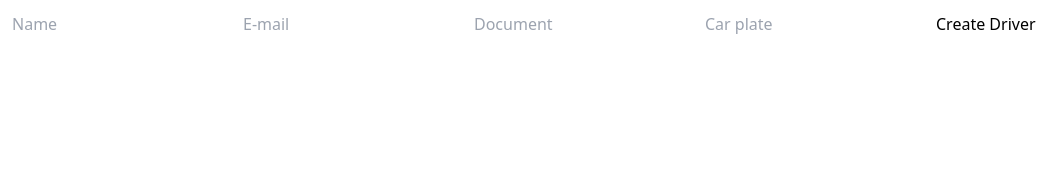
it: Create Driver Integration Test › should not be able create a driver with name invalid
Type "John" into the field with class "driver-name".
click(128, 24); type("John")  # box [12,12,243,36]
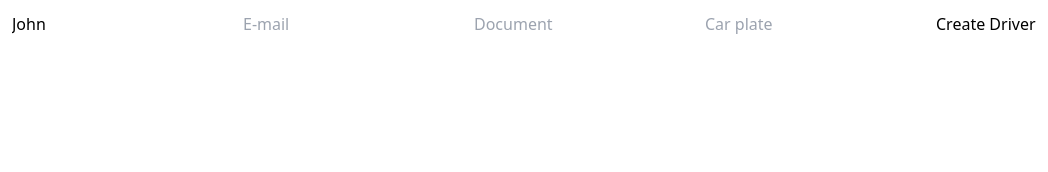
Type "john.doe@gmail.com" into the field with class "driver-email".
click(358, 24); type("john.doe@gmail.com")  # box [243,12,474,36]
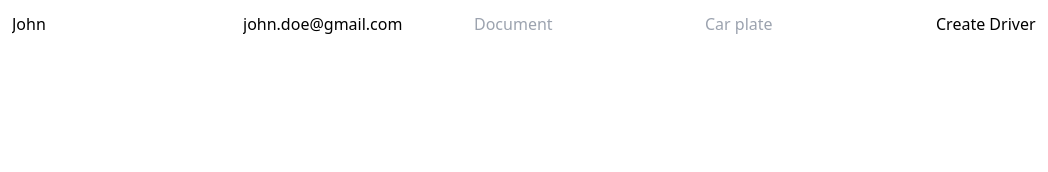
Type "83432616074" into the field with class "driver-document".
click(590, 24); type("83432616074")  # box [474,12,705,36]
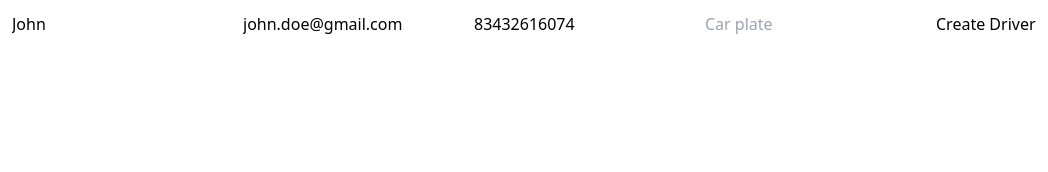
Type "AAA9999" into the field with class "driver-carPlate".
click(820, 24); type("AAA9999")  # box [705,12,936,36]
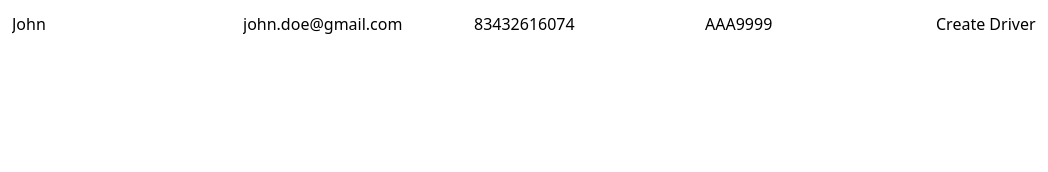
Click the button with class "create-driver".
click(986, 24)  # box [936,12,1036,36]
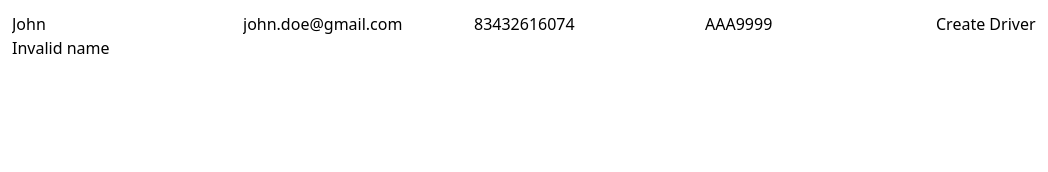
expect the text with class "error" reads "Invalid name": met, box [12,37,110,59]
